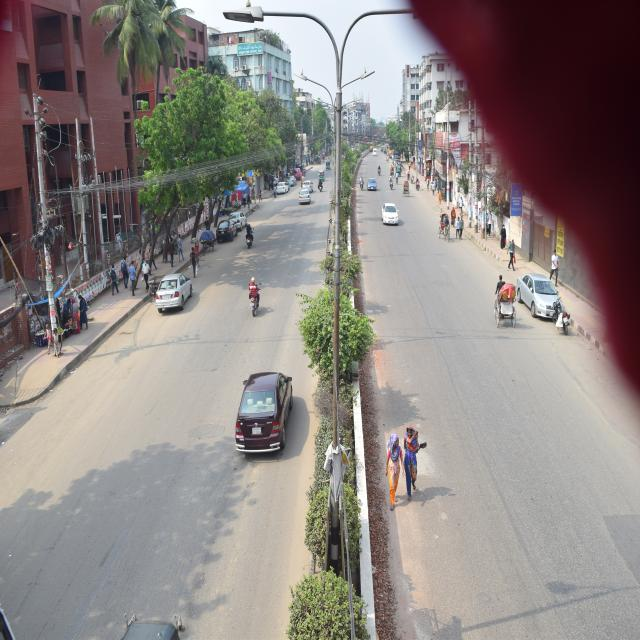car: (228, 357, 294, 470), (516, 269, 564, 328), (154, 267, 190, 319), (376, 201, 402, 232), (213, 214, 235, 246), (230, 206, 250, 232), (297, 188, 311, 213), (299, 172, 315, 192), (367, 172, 377, 195)
motorbike: (239, 288, 269, 322), (552, 295, 574, 335), (238, 224, 258, 256), (313, 174, 325, 196), (358, 173, 365, 192), (388, 178, 396, 192)
